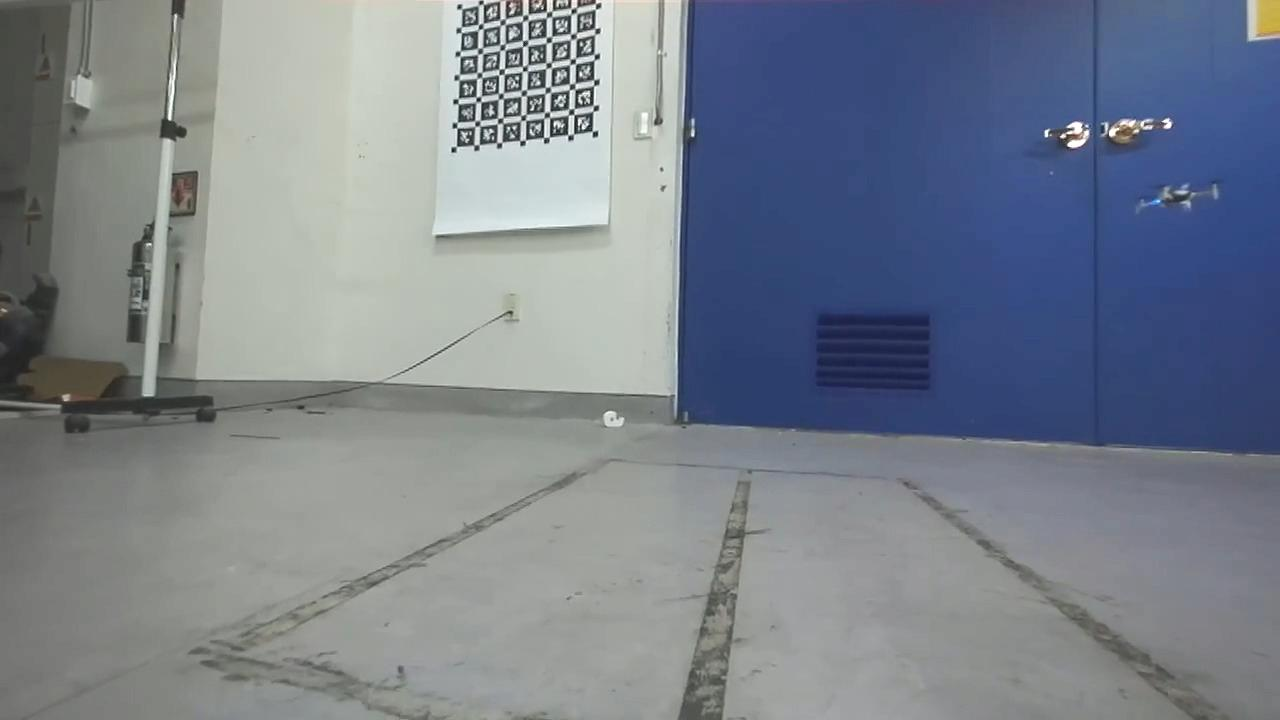crazyflie: (1130, 177, 1226, 217)
